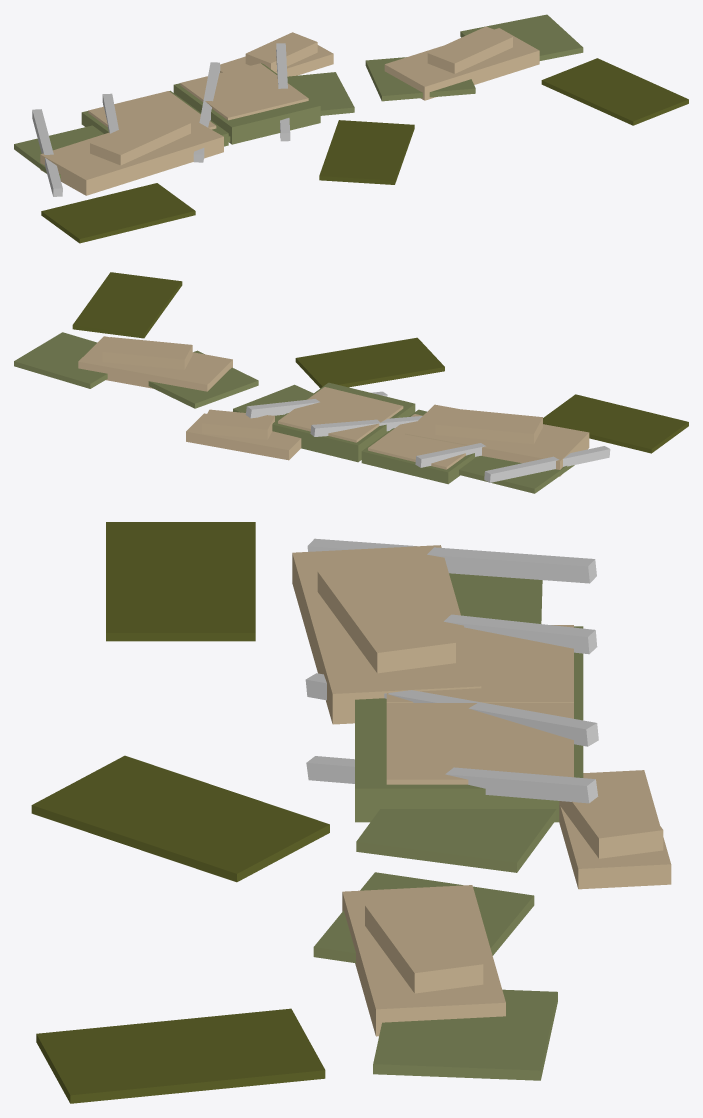
File: SM_HescoCorto4_v4_Red_e3_Brecha_LOD1.fbx
The picture shows the model from 3 angles, top to bottom: view 1: azimuth 30°, elevation 25°; view 2: azimuth 150°, elevation 25°; view 3: azimuth 270°, elevation 25°; orthographic projection. The views are drawn at different scales.
Visible parts, largest first — view 1: SM_hesco_piezas_v119_LOD1; view 2: SM_hesco_piezas_v119_LOD1; view 3: SM_hesco_piezas_v119_LOD1.
Part boxes in pixels (bbox=[...]): SM_hesco_piezas_v119_LOD1: bbox=[14, 14, 688, 243]; SM_hesco_piezas_v119_LOD1: bbox=[14, 272, 688, 493]; SM_hesco_piezas_v119_LOD1: bbox=[31, 522, 671, 1103].
Size of the model in its own units: 7.25 by 0.351 by 3.42.
